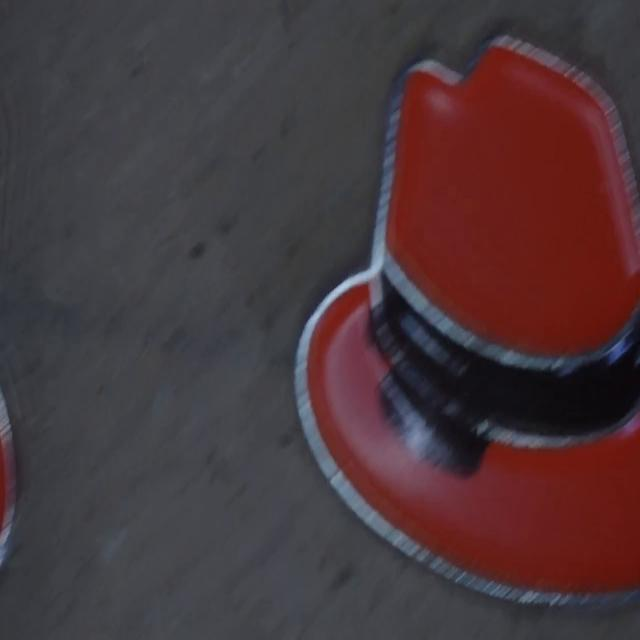Hatband: (370, 251, 640, 447), (379, 371, 486, 473)
RedHatPin: (295, 38, 640, 602)
